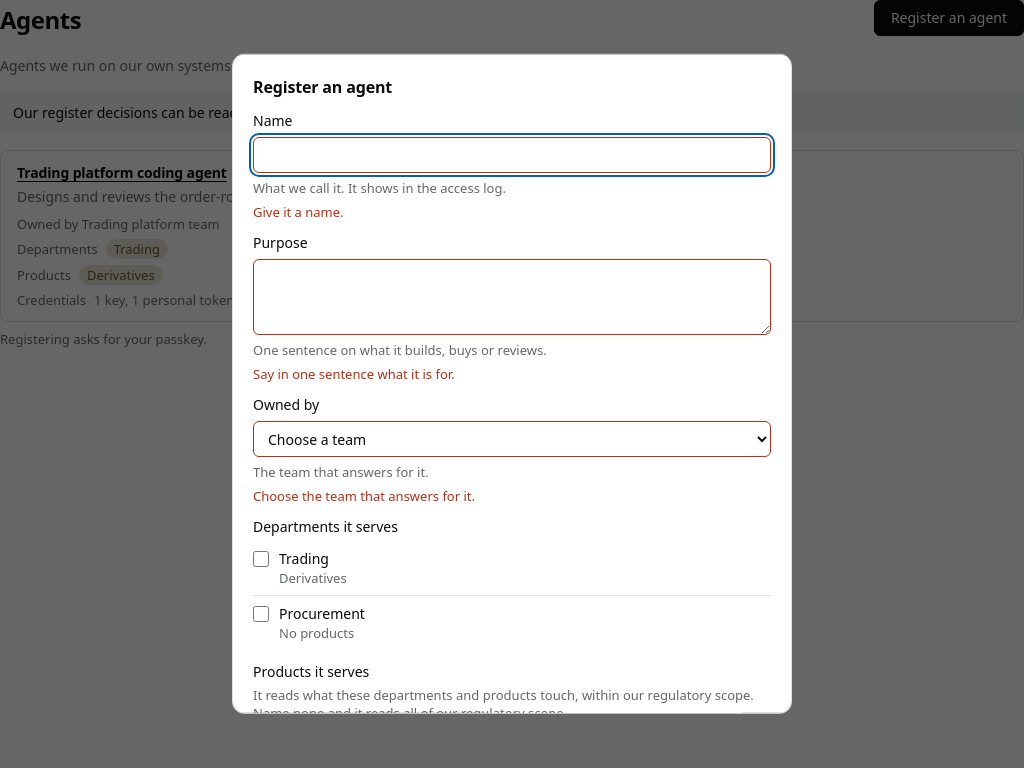
Scenario: agent access tab › registers an agent with its team, departments and products, and refuses a missing name before sending
Earlier steps of the test are not shown.
Expected: the text "Give it a name." is shown, [253,203,344,221]
Type "  Supplier contract reader " into the field labelled "Name" at (512, 155), box [253,137,771,173]
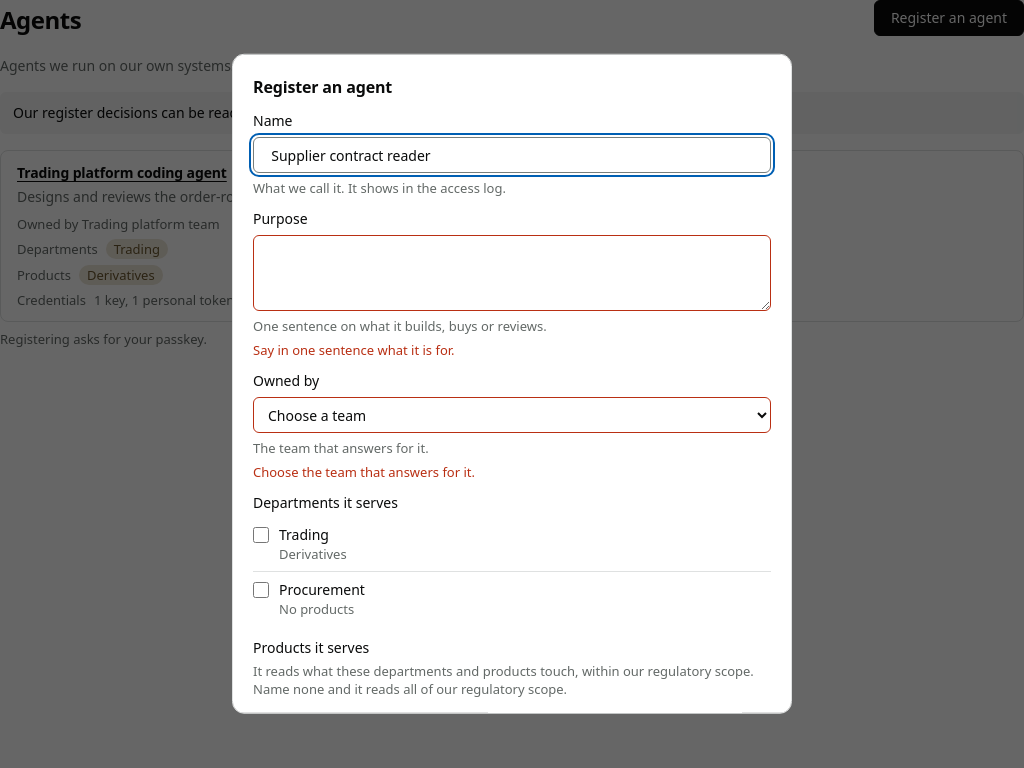
Type "Reads supplier contracts." into the text box labelled "Purpose" at (512, 273), box [253,235,771,311]
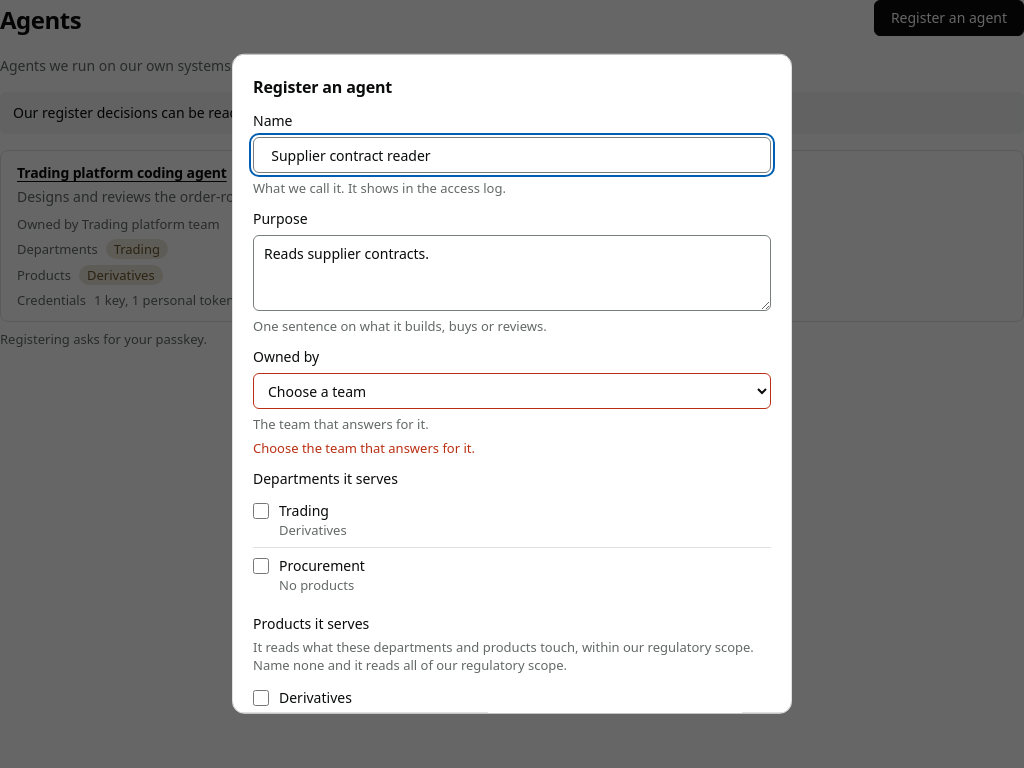
Select "Procurement" in the dropdown labelled "Owned by" at (512, 391), box [253,373,771,409]
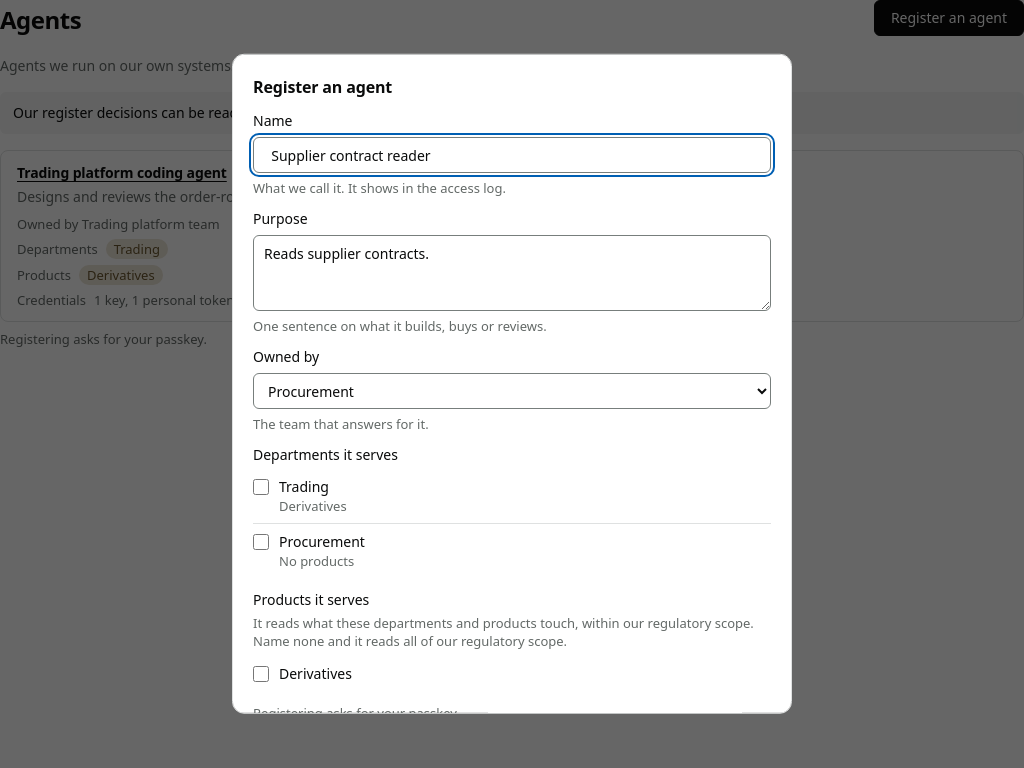
Click the checkbox labelled "Trading Derivatives" at (261, 487), box [253,479,269,495]
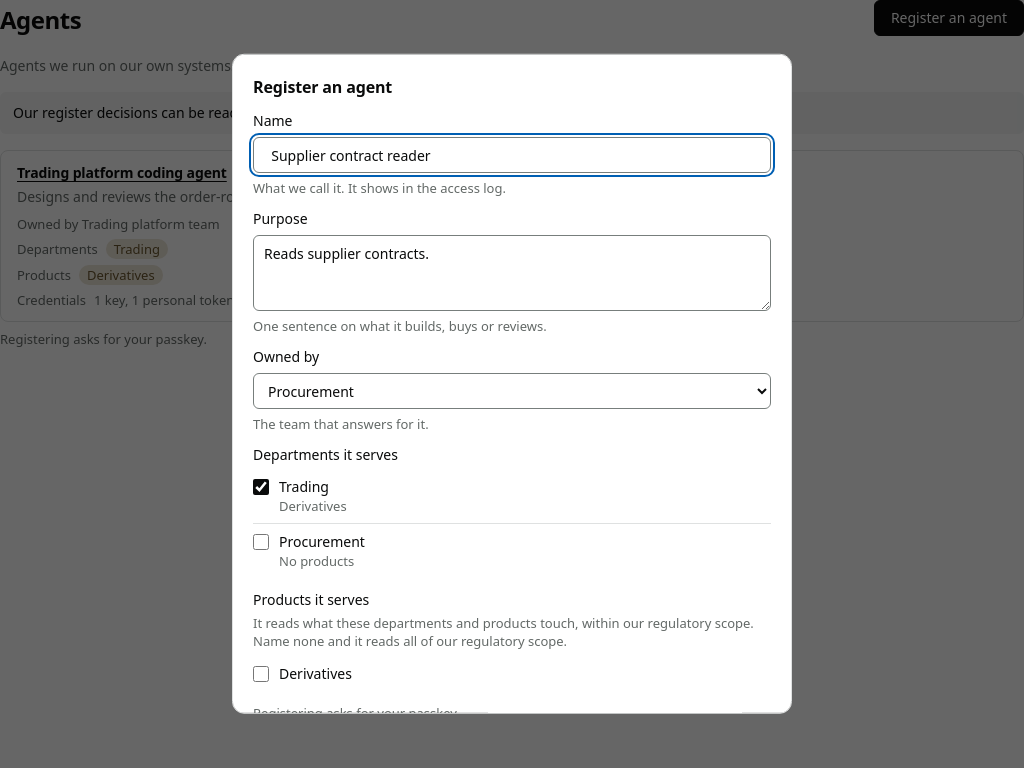
Click the checkbox labelled "Derivatives" at (261, 674), box [253,666,269,682]
(page scrolled)
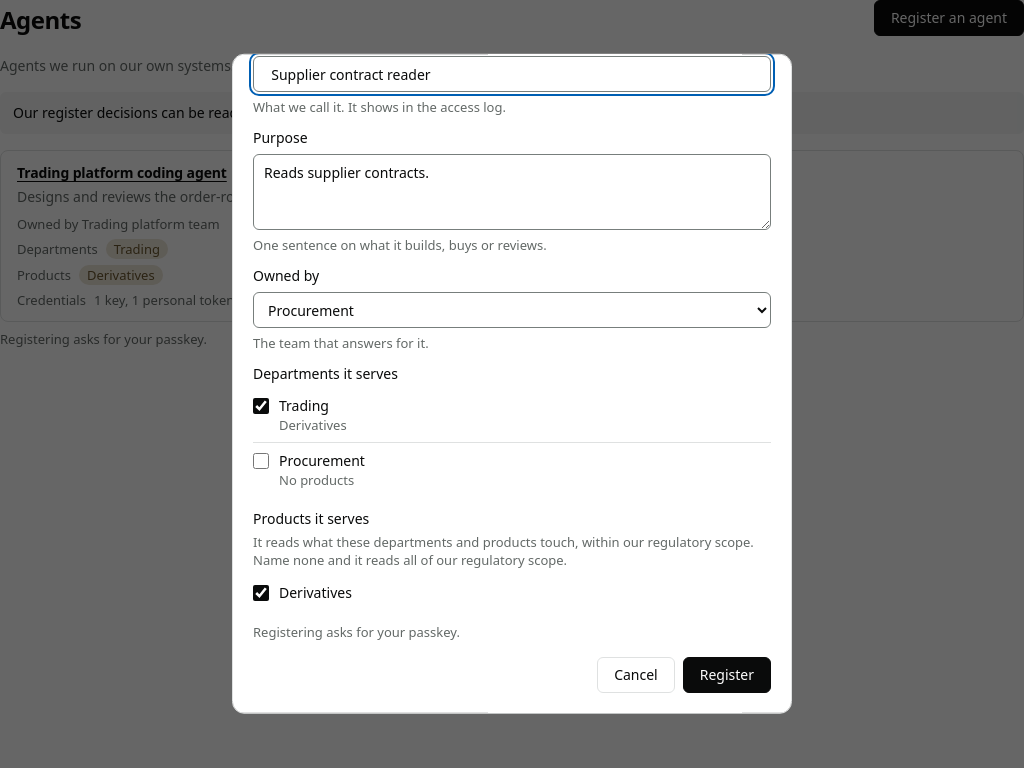
Click the button "Register" at (727, 675), box [683,657,771,693]
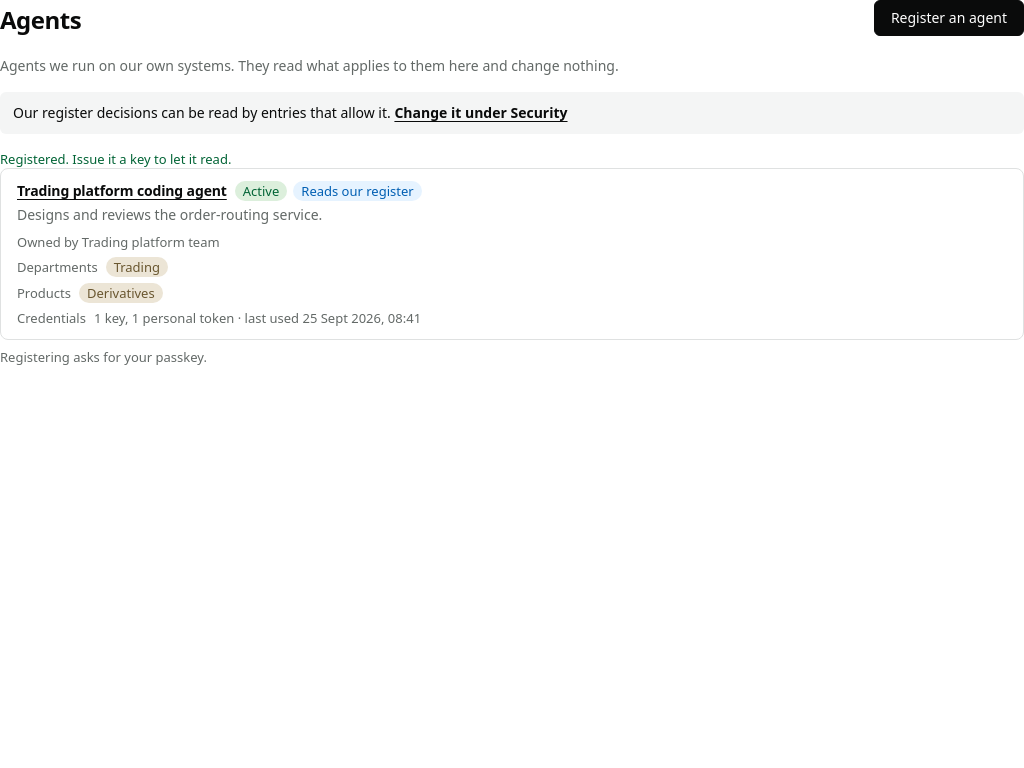
Result: the text "Registered. Issue it a key to let it read." is shown at [0,150,231,168]
